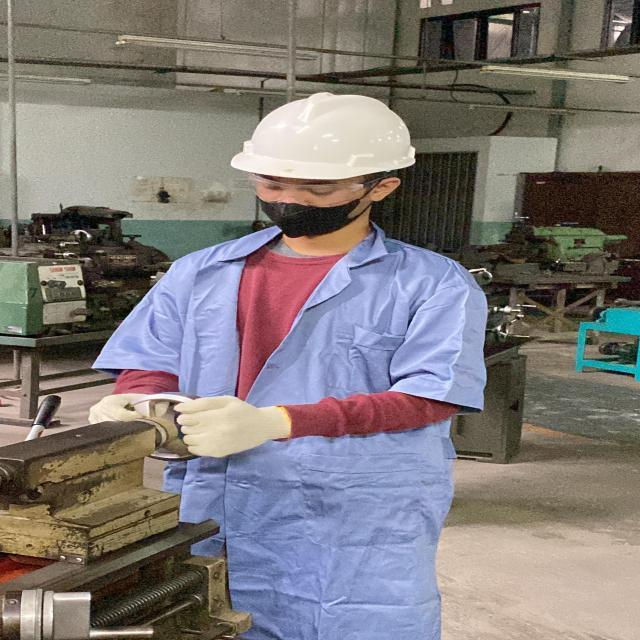glasses: (239, 172, 372, 204)
